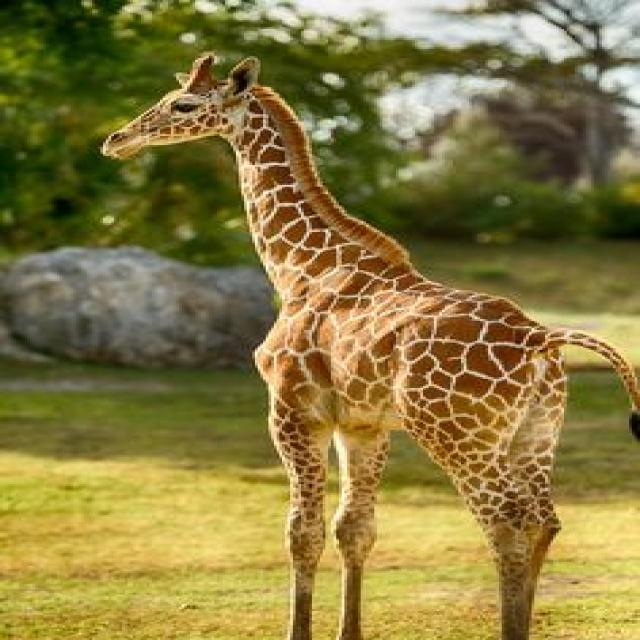Herbivorous: (100, 54, 640, 640)
